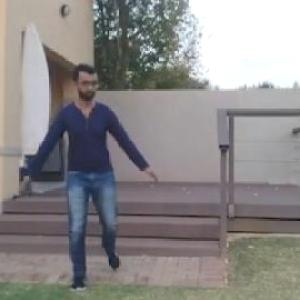land: (8, 51, 159, 292)
